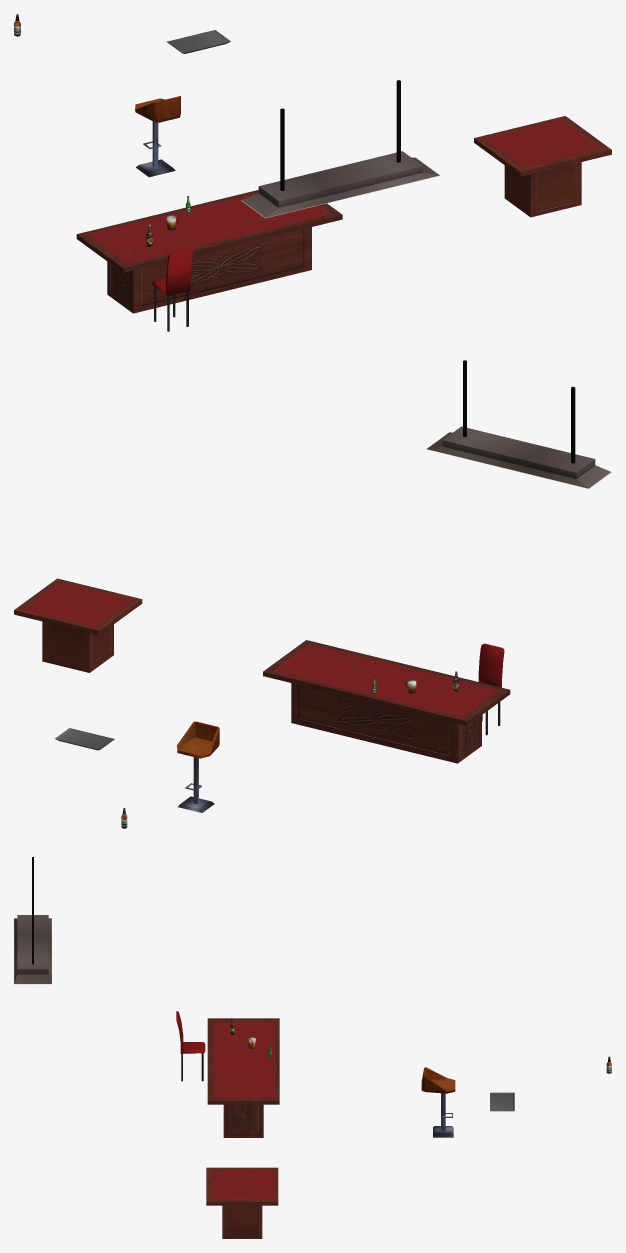
Rendered from models.fbx.
The picture shows the model from 3 angles, top to bottom: view 1: azimuth 30°, elevation 25°; view 2: azimuth 150°, elevation 25°; view 3: azimuth 270°, elevation 25°; orthographic projection. The views are drawn at different scales.
Visible parts, largest first — view 1: polySurface1173, polySurface1177, polySurface1627, polySurface1502, polySurface1626, polySurface1504; view 2: polySurface1173, polySurface1177, polySurface1627, polySurface1626, polySurface1502, polySurface1504; view 3: polySurface1173, polySurface1177, polySurface1627, polySurface1626, polySurface1502.
Boxes of the visible parts, <box> form: polySurface1173: <box>76,190,342,313</box>; polySurface1177: <box>474,116,611,217</box>; polySurface1627: <box>241,80,439,218</box>; polySurface1502: <box>152,247,193,331</box>; polySurface1626: <box>135,96,180,177</box>; polySurface1504: <box>166,30,230,53</box>; polySurface1173: <box>263,640,510,763</box>; polySurface1177: <box>14,578,142,672</box>; polySurface1627: <box>426,360,611,488</box>; polySurface1626: <box>177,721,219,812</box>; polySurface1502: <box>478,643,504,735</box>; polySurface1504: <box>55,728,114,750</box>; polySurface1173: <box>207,1018,279,1137</box>; polySurface1177: <box>206,1167,278,1238</box>; polySurface1627: <box>14,857,51,984</box>; polySurface1626: <box>421,1067,455,1137</box>; polySurface1502: <box>176,1011,205,1081</box>.
Bounding box in the file's own units: 31.7 × 17.93 × 43.64.
